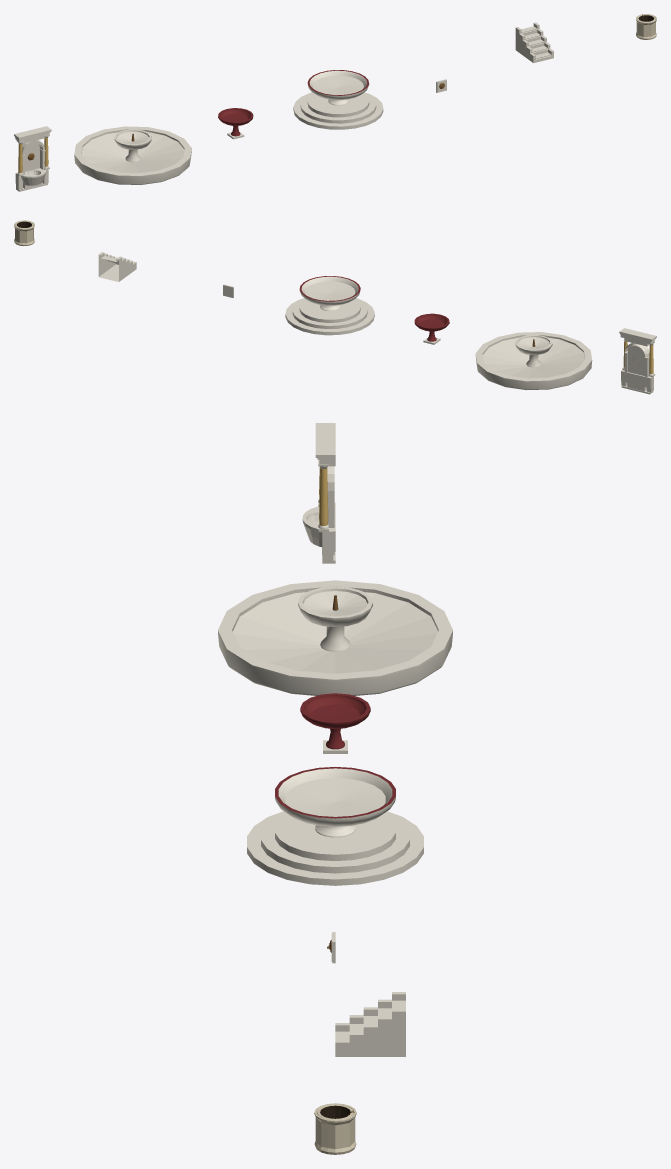
Rendered from rome_tr_kit_water.glb.
3 views of the same model, one above another, from view 1: azimuth 30°, elevation 25°; view 2: azimuth 150°, elevation 25°; view 3: azimuth 270°, elevation 25° (orthographic). The views are drawn at different scales.
Parts seen in each view (by area): view 1: kit_round_basin, kit_great_tazza, kit_wall_fountain, kit_cascade, kit_labrum, kit_puteal; view 2: kit_round_basin, kit_great_tazza, kit_wall_fountain, kit_cascade, kit_labrum, kit_puteal; view 3: kit_round_basin, kit_great_tazza, kit_cascade, kit_wall_fountain, kit_labrum, kit_puteal.
Boxes of the visible parts, x1,y1,x2,y2 form: kit_round_basin: [74, 126, 191, 184]; kit_great_tazza: [293, 70, 383, 129]; kit_wall_fountain: [14, 126, 51, 191]; kit_cascade: [515, 22, 553, 63]; kit_labrum: [218, 108, 253, 139]; kit_puteal: [636, 14, 656, 39]; kit_round_basin: [475, 332, 592, 390]; kit_great_tazza: [285, 276, 374, 335]; kit_wall_fountain: [619, 328, 656, 394]; kit_cascade: [98, 252, 136, 281]; kit_labrum: [414, 313, 449, 344]; kit_puteal: [14, 220, 34, 245]; kit_round_basin: [218, 580, 452, 695]; kit_great_tazza: [247, 767, 423, 885]; kit_cascade: [335, 992, 405, 1056]; kit_wall_fountain: [302, 423, 335, 563]; kit_labrum: [300, 693, 370, 753]; kit_puteal: [314, 1103, 356, 1154].
Bounding box in the file's own units: 31.25 × 2.85 × 5.
